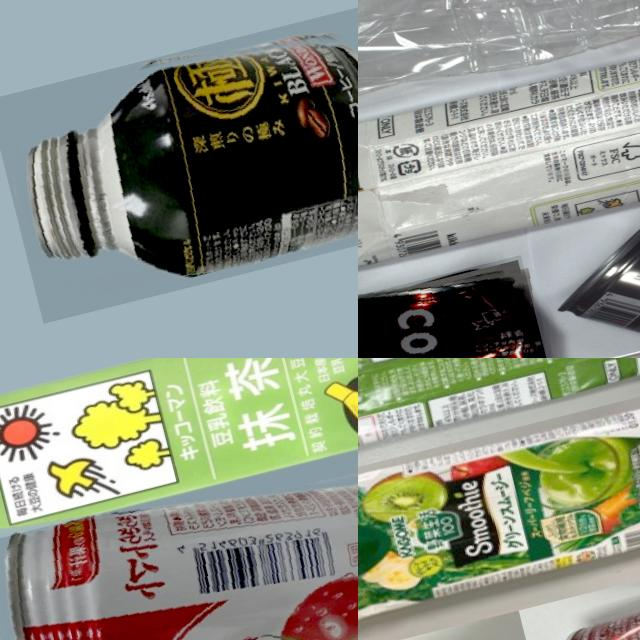Aluminium Foil: (358, 8, 640, 288), (358, 382, 640, 640), (0, 358, 358, 549), (358, 358, 640, 491)
Can: (0, 4, 358, 322), (0, 418, 358, 640), (358, 253, 569, 358)
Transparent Plastic Bottle: (358, 0, 640, 131)
